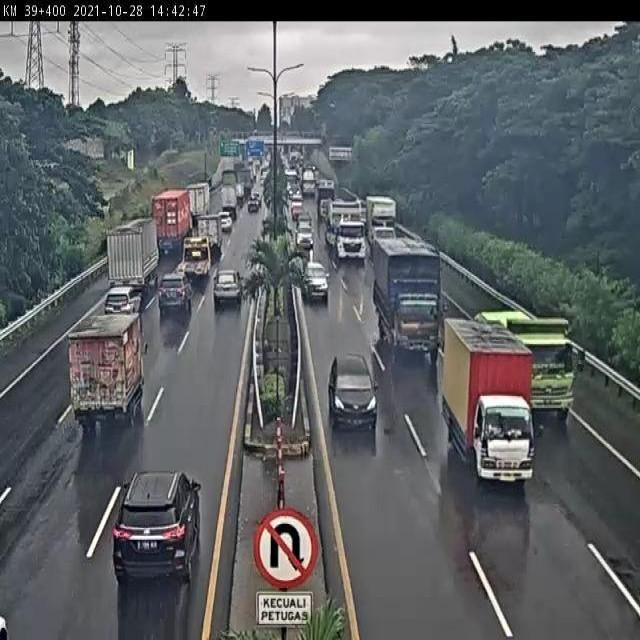car: (112, 470, 201, 590), (331, 354, 378, 434), (155, 273, 193, 319), (101, 281, 142, 316), (303, 264, 328, 305), (212, 271, 242, 305)
mid truck: (171, 235, 214, 280)
truck-l-: (474, 314, 574, 418), (374, 239, 443, 360), (367, 196, 398, 247)
truck-m-: (442, 316, 536, 484), (71, 310, 150, 430), (106, 216, 160, 291)
truck-xl-: (330, 206, 373, 270)
